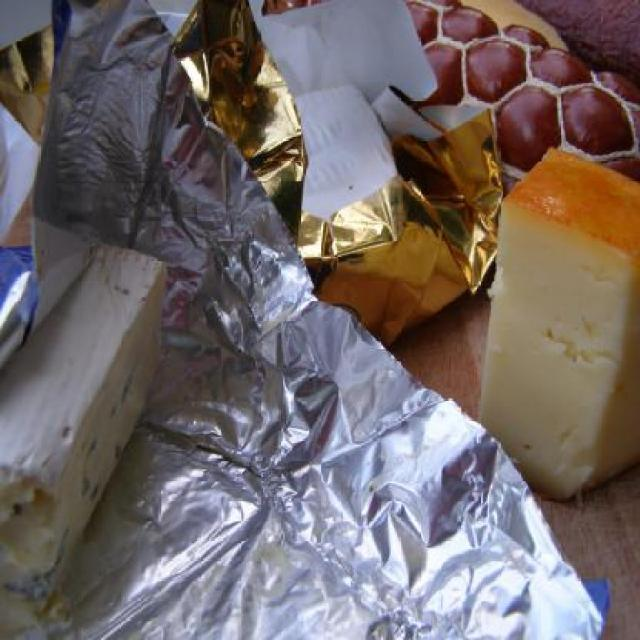Cheese: (0, 237, 169, 625), (477, 143, 640, 502)
